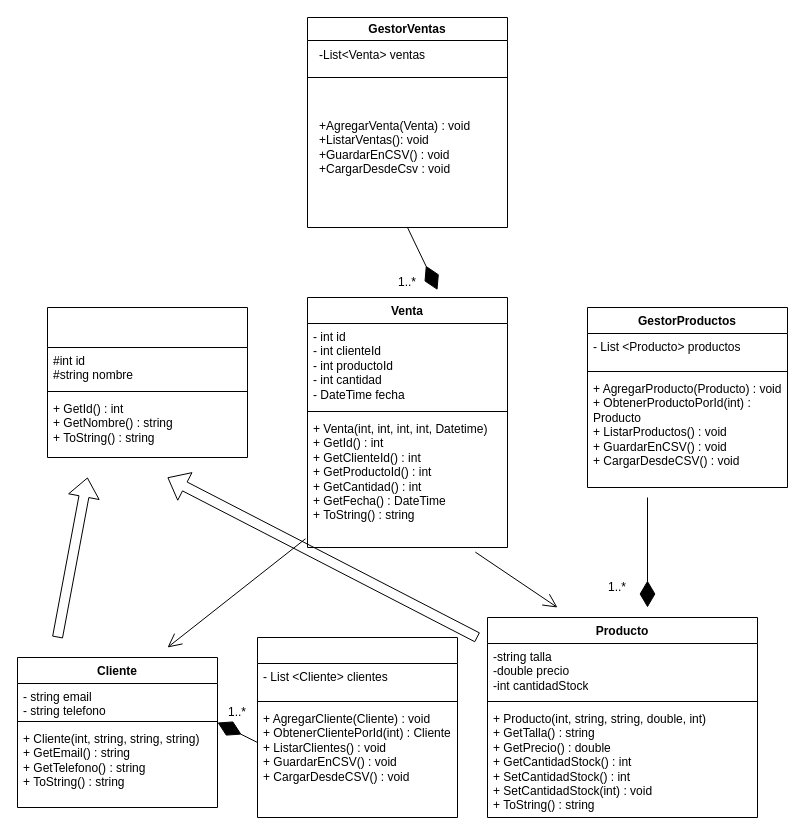
The diagram is 805 pixels wide and 838 high, and some of its shapes have lost their labels. Here are the shapes that lost their labels. From the top down, the box of each, then its label:
(46, 306, 248, 458): <<Abstract>> Entidad
(256, 636, 458, 818): GestorClientes
